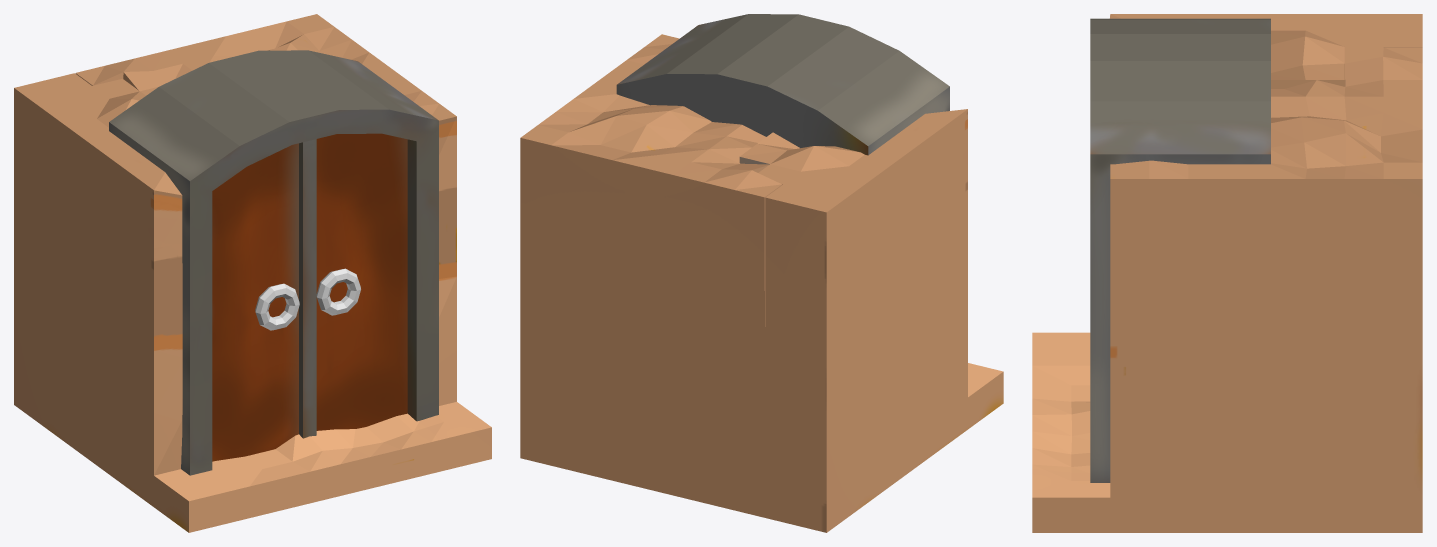
Rendered from doorOut.fbx.
3 views of the same model, side by side, from view 1: azimuth 30°, elevation 25°; view 2: azimuth 150°, elevation 25°; view 3: azimuth 270°, elevation 25° (orthographic). The views are drawn at different scales.
Parts seen in each view (by area): view 1: Cube_1, Cube, Torus, Torus_1; view 2: Cube, Cube_1; view 3: Cube, Cube_1.
Part boxes in pixels (box(x1,y1,x2,y2)): Cube_1: box(109, 50, 438, 475); Cube: box(14, 14, 491, 532); Torus: box(316, 268, 360, 315); Torus_1: box(255, 283, 299, 330); Cube: box(520, 34, 1003, 532); Cube_1: box(616, 14, 949, 155); Cube: box(1032, 14, 1422, 532); Cube_1: box(1090, 18, 1270, 482).
Bounding box in the file's own units: 100 × 114 × 100.
2 materials, 2 textured.
